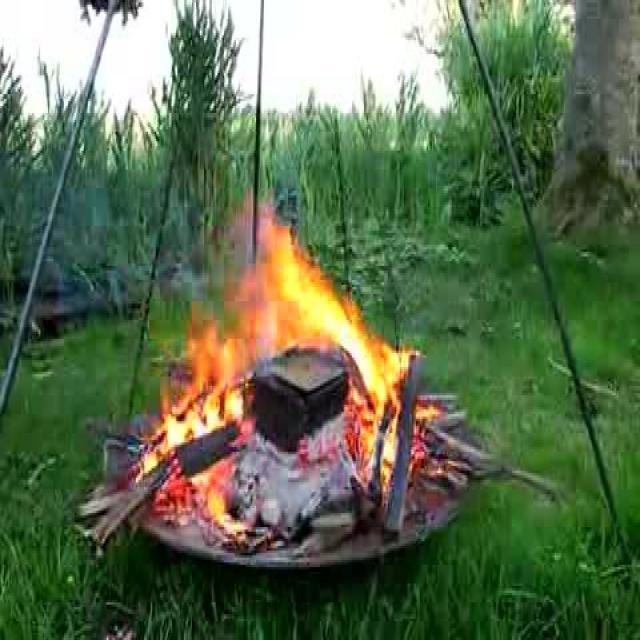Fire: (178, 325, 406, 470), (252, 230, 304, 318)
